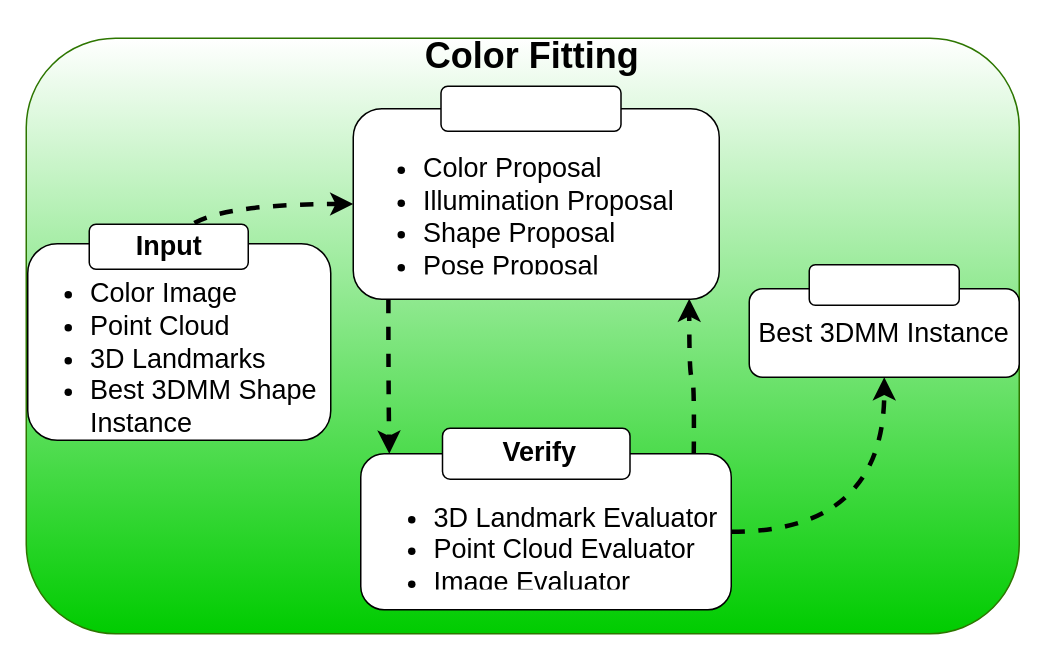
The diagram is 1046 pixels wide and 660 high, and some of its shapes have lost their labels. The box of each missing label's shape, as (x1, y1, x2, y2) in pixels:
Output: (808, 263, 959, 305)
Propose: (440, 85, 621, 131)
